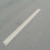zebra: (7, 9, 50, 47)
